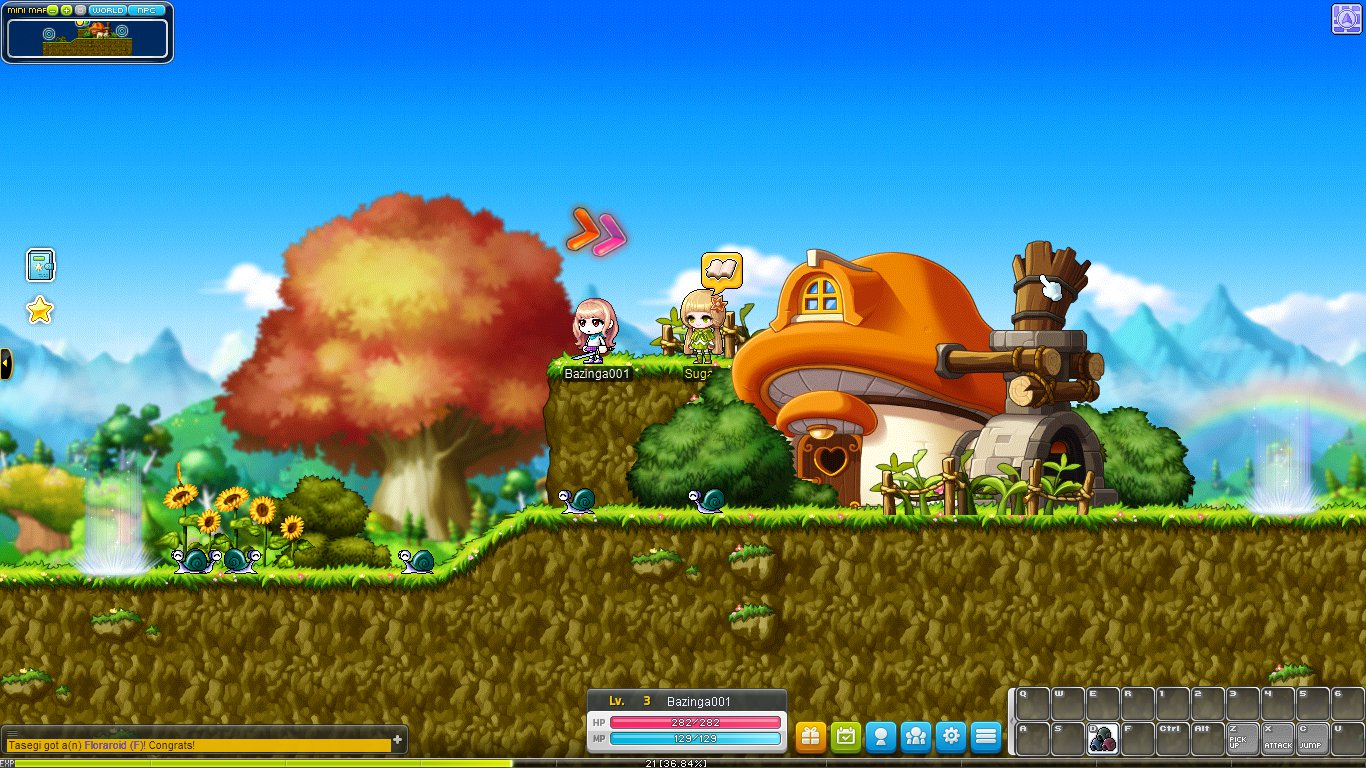snail: (557, 481, 597, 521), (394, 544, 433, 583), (222, 540, 260, 578), (687, 483, 724, 520)
